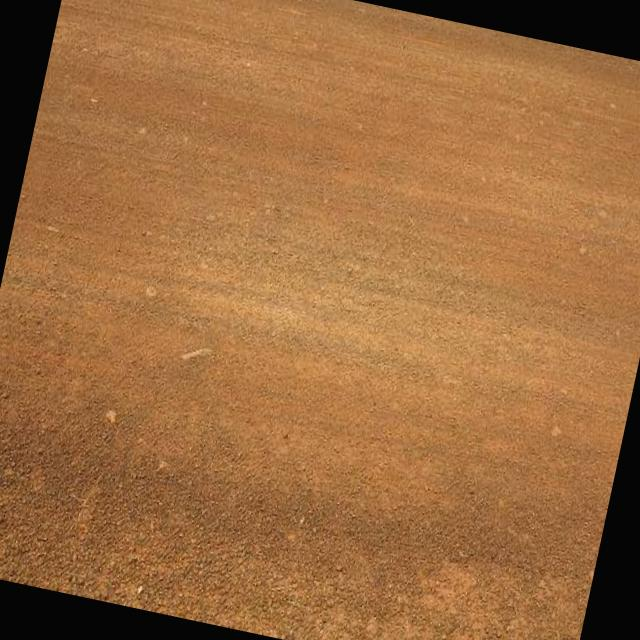suelo_seco: (111, 86, 616, 617)
